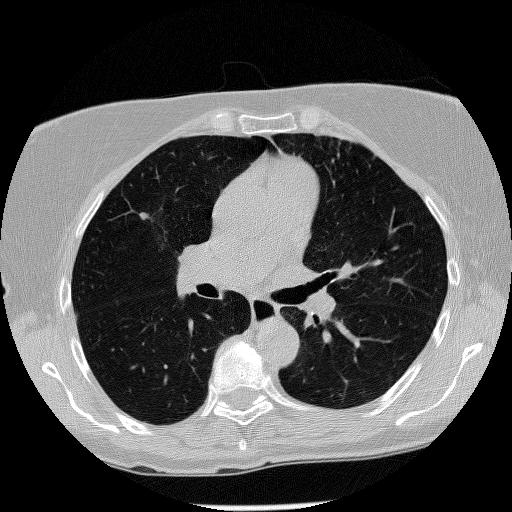nodule: (137, 210, 149, 222)
